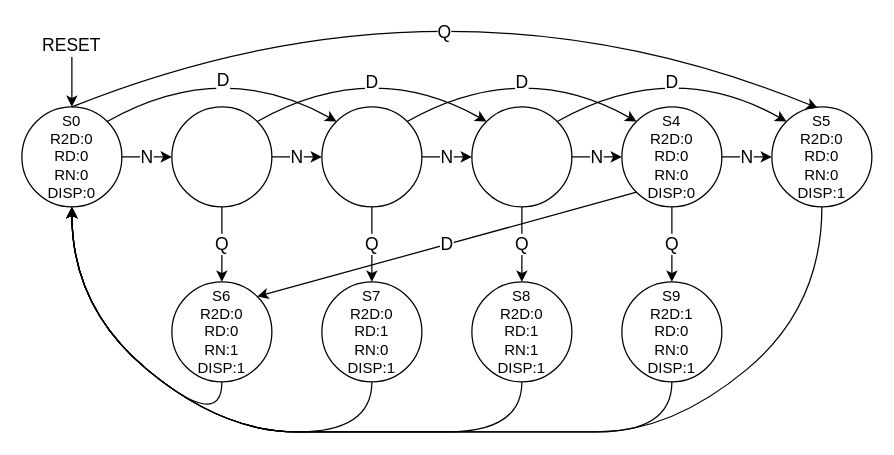
Some shapes in this 894 by 455 pixel diagram are drawn without their labels. Each missing label, with the centre of its shape:
"S1 R2D:0 RD:0 RN:0 DISP:0" goes at (x=221, y=156).
"S2 R2D:0 RD:0 RN:0 DISP:0" goes at (x=371, y=156).
"S3 R2D:0 RD:0 RN:0 DISP:0" goes at (x=521, y=156).
